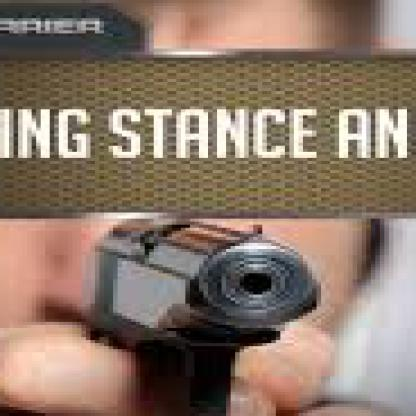gun: (0, 221, 412, 414)
